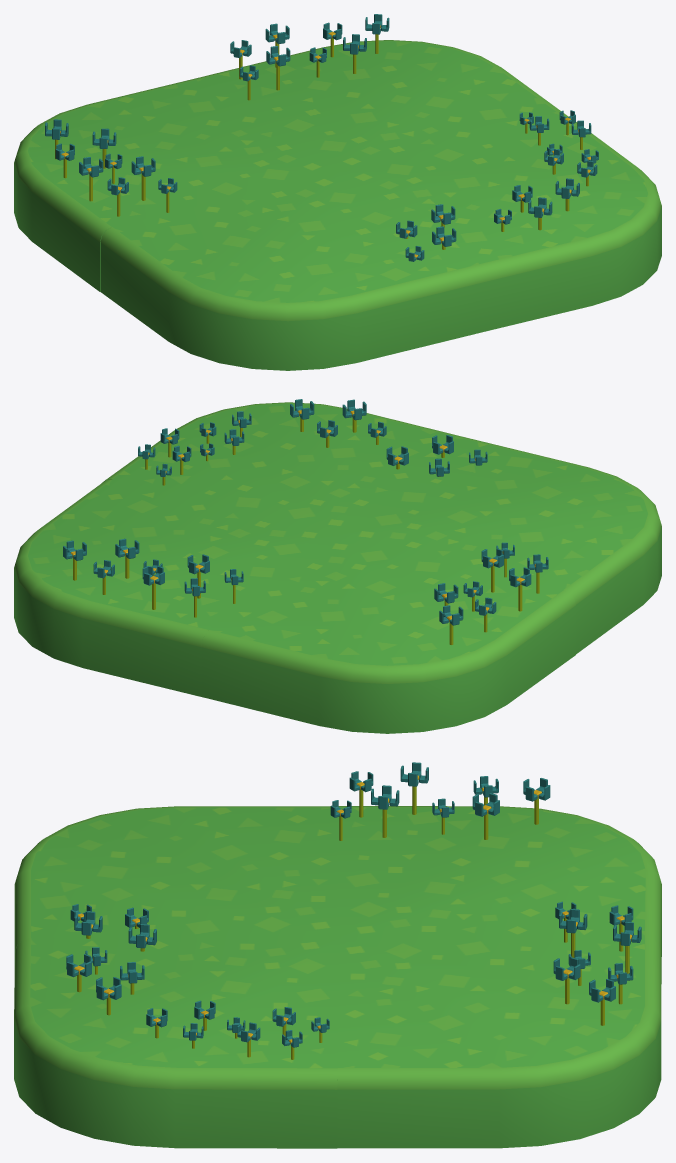
Rendered from CreatureBuilerStageWithTextures.fbx.
The picture shows the model from 3 angles, top to bottom: view 1: azimuth 30°, elevation 25°; view 2: azimuth 150°, elevation 25°; view 3: azimuth 270°, elevation 25°; orthographic projection. The views are drawn at different scales.
Parts seen in each view (by area): view 1: Flowers_2.004; view 2: Flowers_2.004; view 3: Flowers_2.004.
Boxes of the visible parts, left/top/right/bottom form: Flowers_2.004: left=14, top=14, right=661, bottom=370; Flowers_2.004: left=14, top=399, right=661, bottom=733; Flowers_2.004: left=14, top=762, right=661, bottom=1148.
Bounding box in the file's own units: 577 × 117 × 575.
2 materials, 2 textured.
